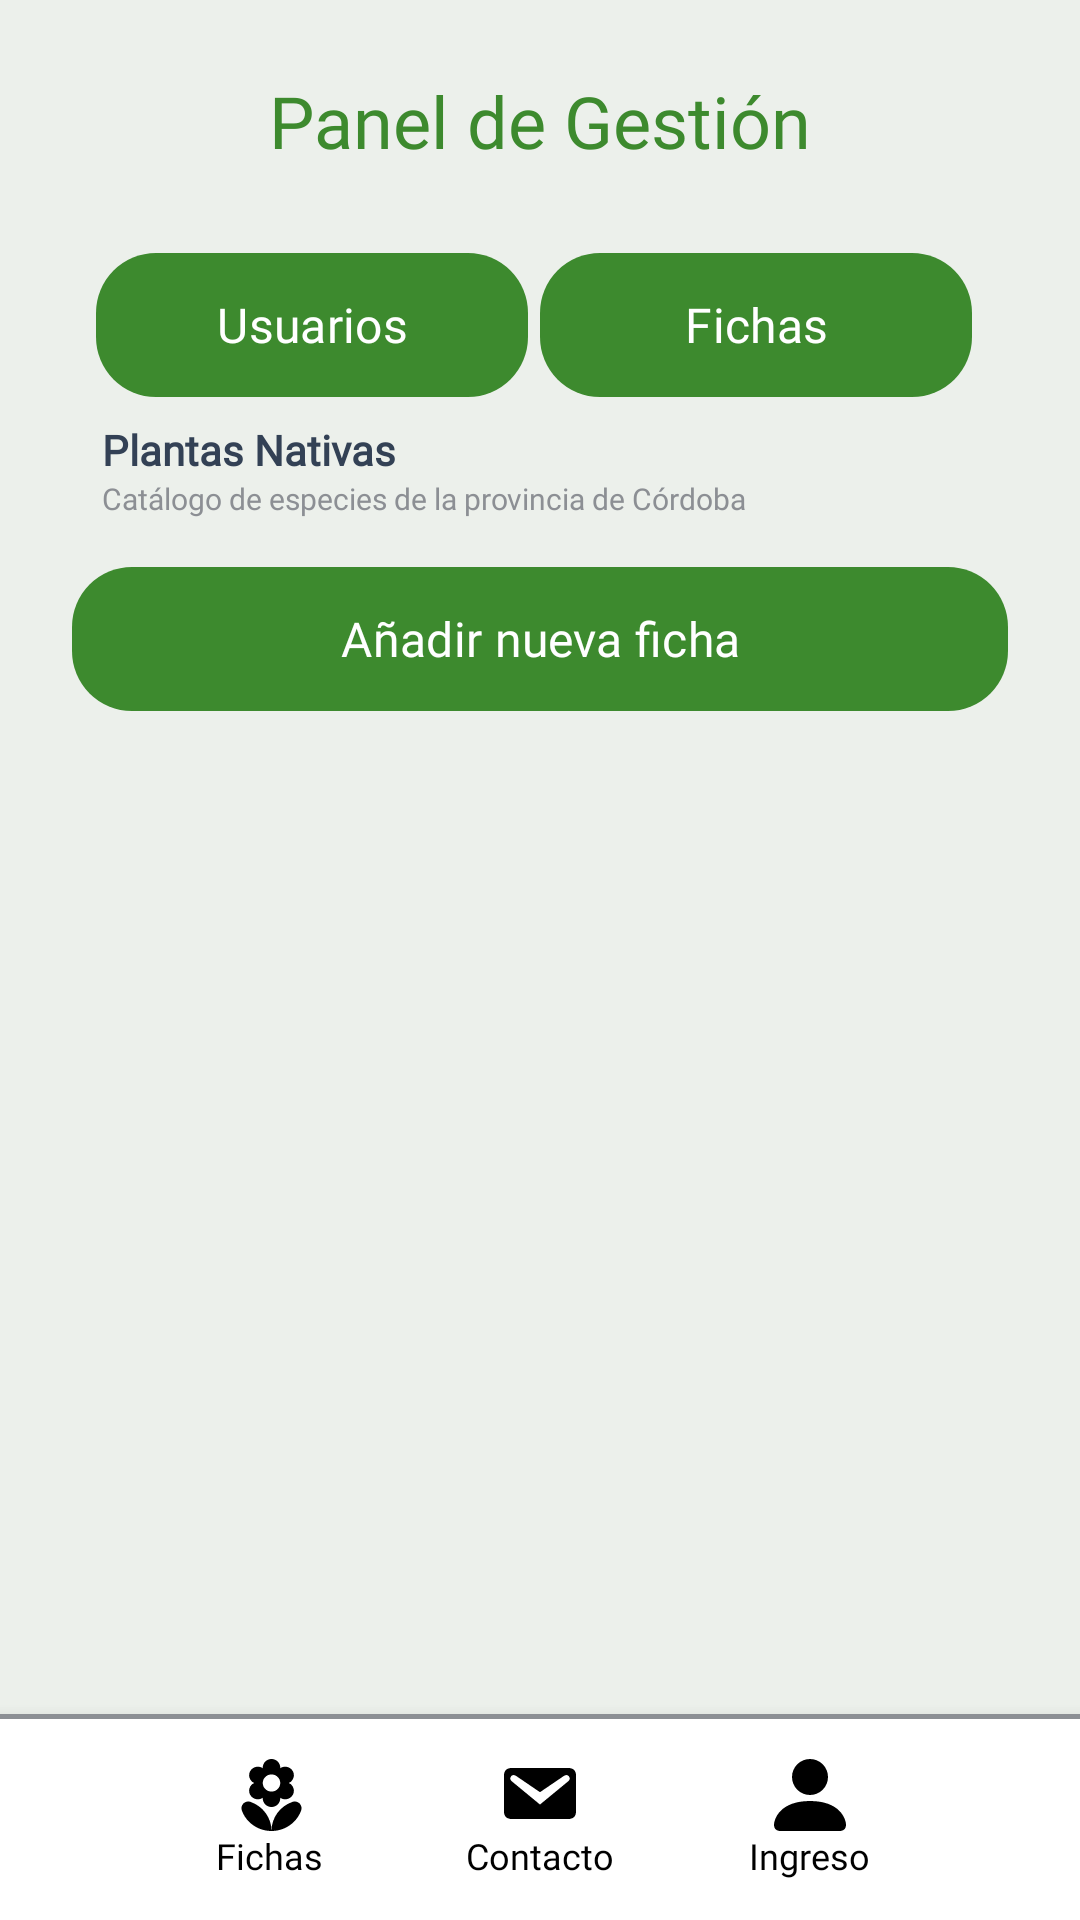

Icons on this 1080px x 1920px Android screen, each with its box as (x1, y1, x2, y2):
usuario: (774, 1759, 846, 1831)
